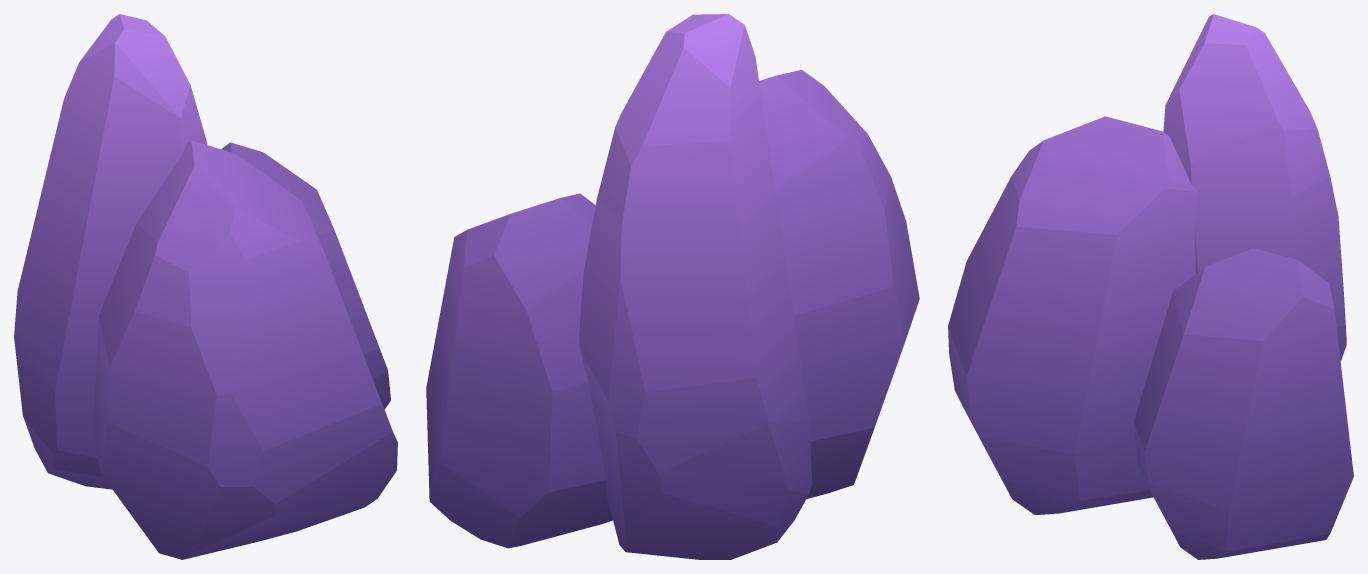
The model's file is Crystal_P_20.glb.
The picture shows the model from 3 angles, left to right: view 1: azimuth 30°, elevation 25°; view 2: azimuth 150°, elevation 25°; view 3: azimuth 270°, elevation 25°; orthographic projection. The views are drawn at different scales.
Visible parts, largest first — view 1: crystal_20; view 2: crystal_20; view 3: crystal_20.
Part boxes in pixels (x1,y1,x2,y2): crystal_20: (14, 14, 397, 559); crystal_20: (426, 14, 919, 559); crystal_20: (948, 14, 1353, 559).
Bounding box in the file's own units: 0.7766 × 1 × 0.8146.
1 material, 1 textured.
